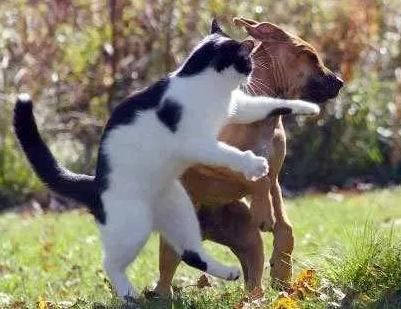cats: (10, 11, 297, 298)
dogs: (234, 4, 364, 296)
